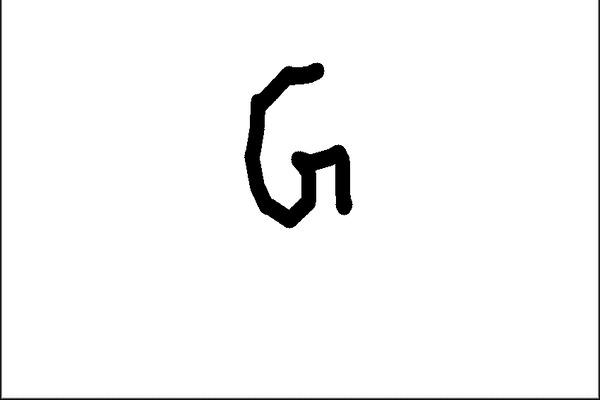G: (240, 56, 357, 231)
